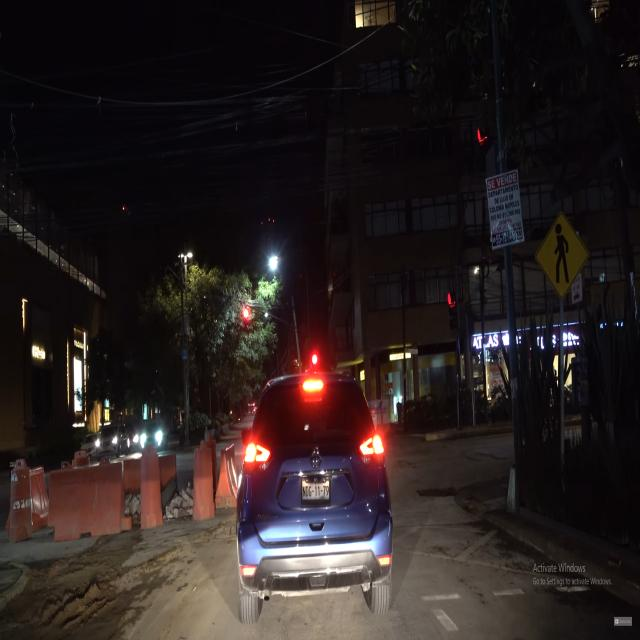headlights: (137, 425, 168, 454), (92, 431, 122, 452)
